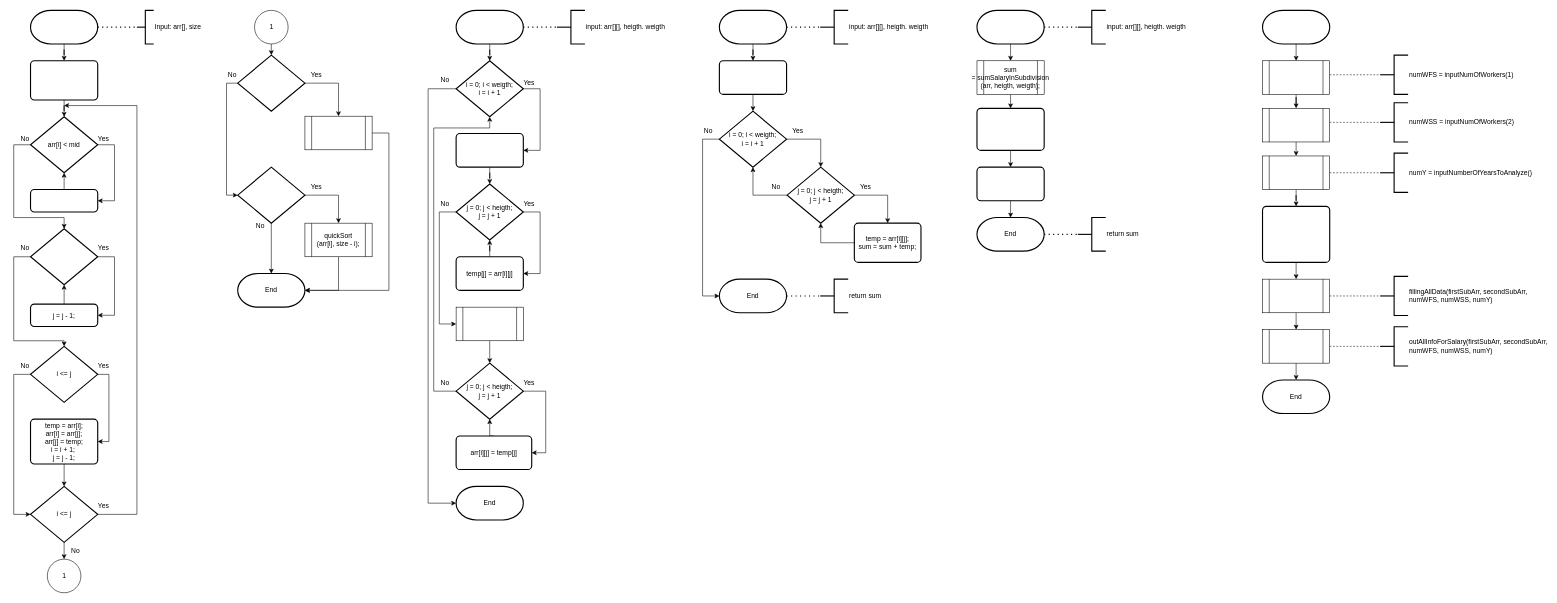
The diagram is 1557 pixels wide and 603 high, and some of its shapes have lost their labels. The shapes that lost their labels are listed below. From the top down, each one's centre as x and y in pixels, then its label:
the point at 64,27: quickSort
the point at 489,27: sortSalaryInSubdivision
the point at 753,27: sumSalaryInSubdivision
the point at 1010,27: SumOfSalaryAfterTax
the point at 1296,27: Start
the point at 64,80: i = 0; j = size - 1; mid = arr[size / 2];
the point at 271,82: j > 0
the point at 753,77: sum = 0; temp = 0;
the point at 338,133: quickSort (arr, j + 1);
the point at 1010,129: onePercent = sum / 100; tax = onePercent * 20;
the point at 489,150: temp[heigth];
the point at 64,200: i = i + 1;
the point at 271,194: i < size
the point at 1010,183: sum = sum - tax;
the point at 1296,234: firstSubArr [numWFS] [numY]; secondSubArr [numWSS][numY]
the point at 64,256: arr[j] < mid
the point at 489,324: quickSort(temp, heigth)
